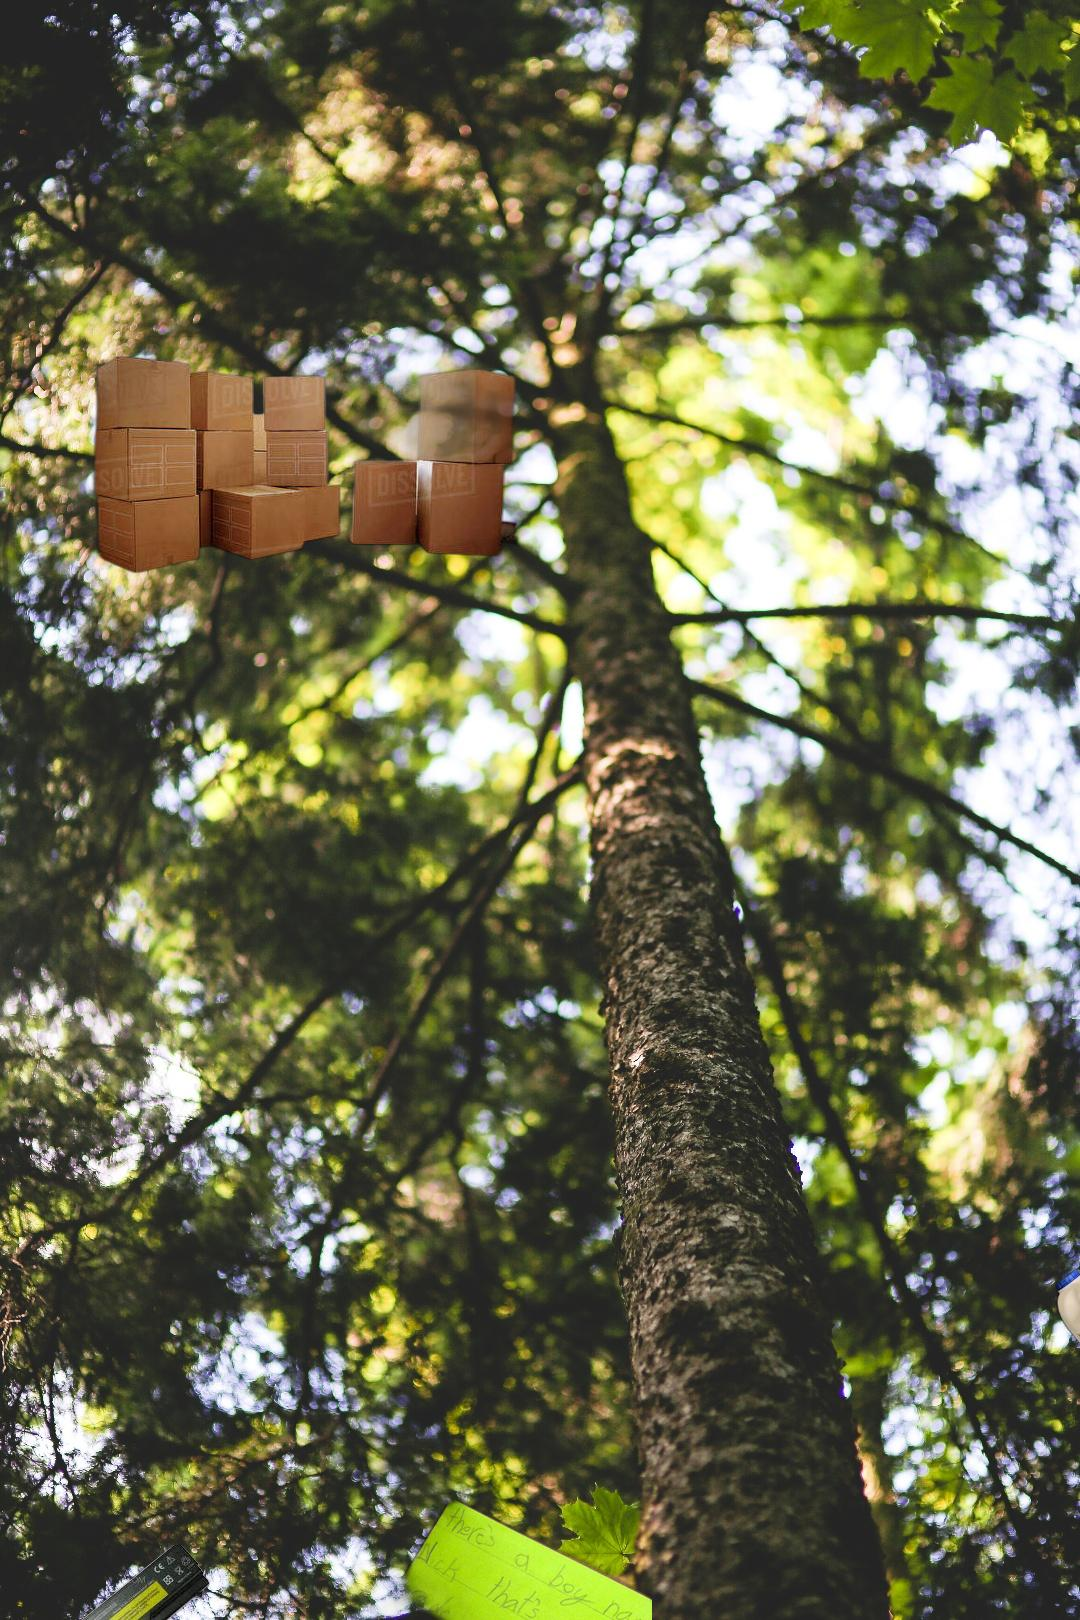battery: (13, 1545, 213, 1620)
plastic-bottles: (1052, 1264, 1080, 1370)
trashbox-cardboard: (152, 1304, 652, 1620), (88, 353, 524, 576)
